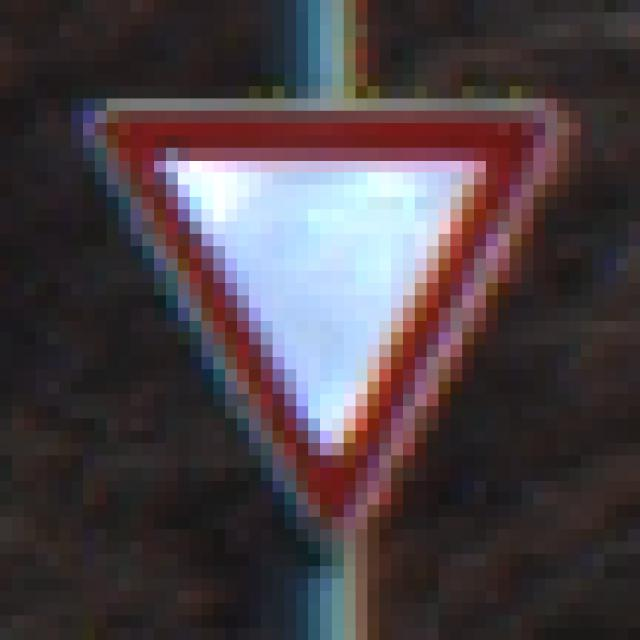Give Way: (72, 75, 582, 579)
